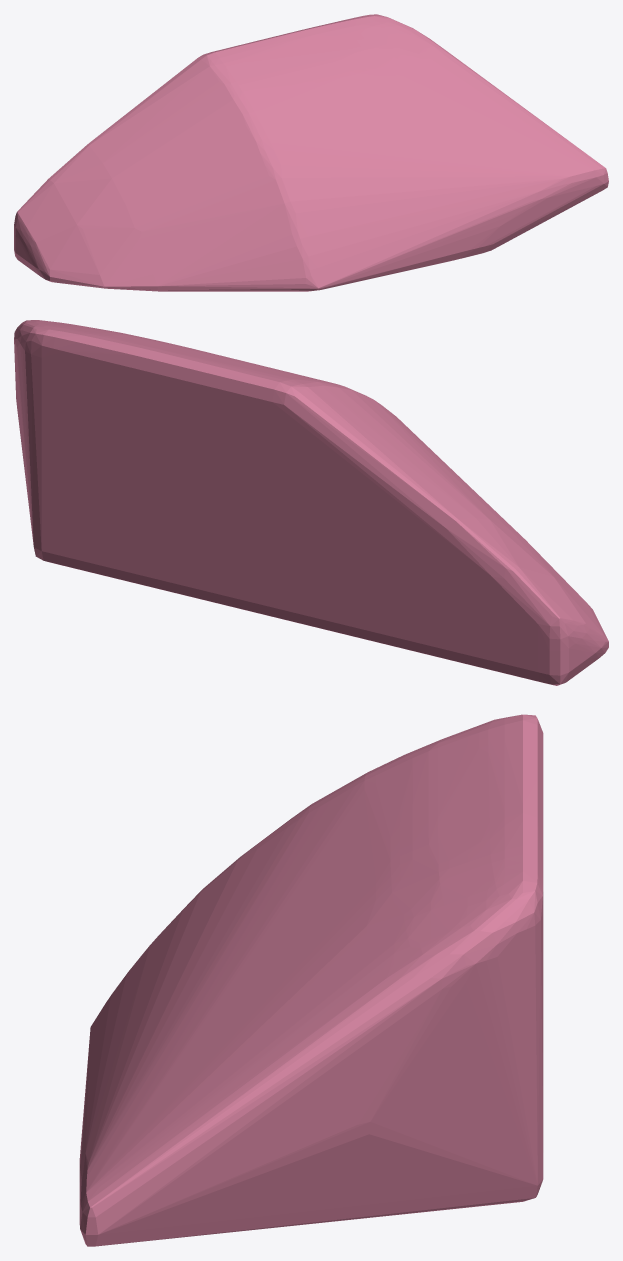
Rendered from right_hip_yaw_link_part_24.obj.
3 views of the same model, one above another, from view 1: azimuth 30°, elevation 25°; view 2: azimuth 150°, elevation 25°; view 3: azimuth 270°, elevation 25° (orthographic). The views are drawn at different scales.
Bounding box in the file's own units: 0.0994 × 0.0321 × 0.0412.
